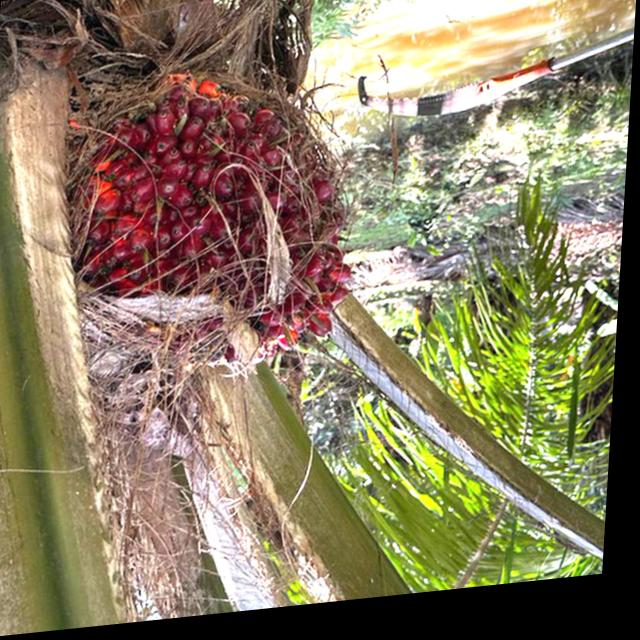ripe: (52, 51, 381, 409)
